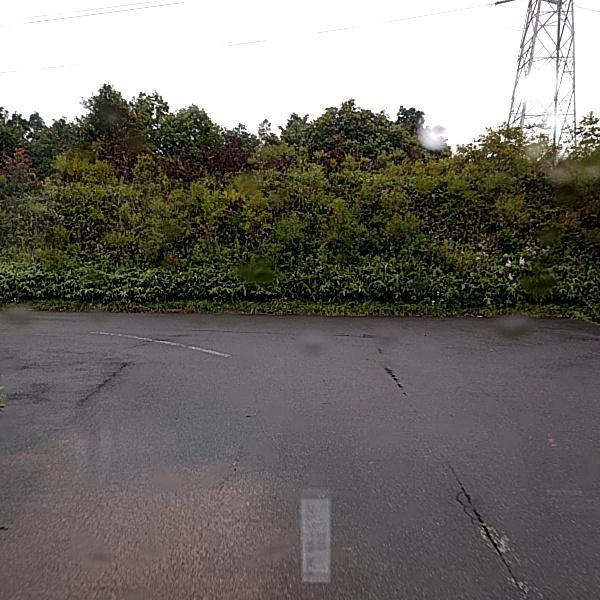D00: (446, 466, 518, 587), (80, 355, 123, 413)
